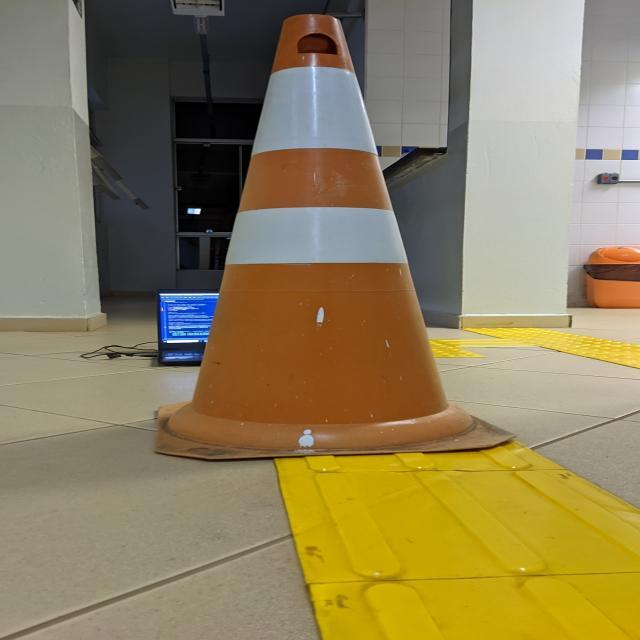Cone: (147, 8, 528, 466)
